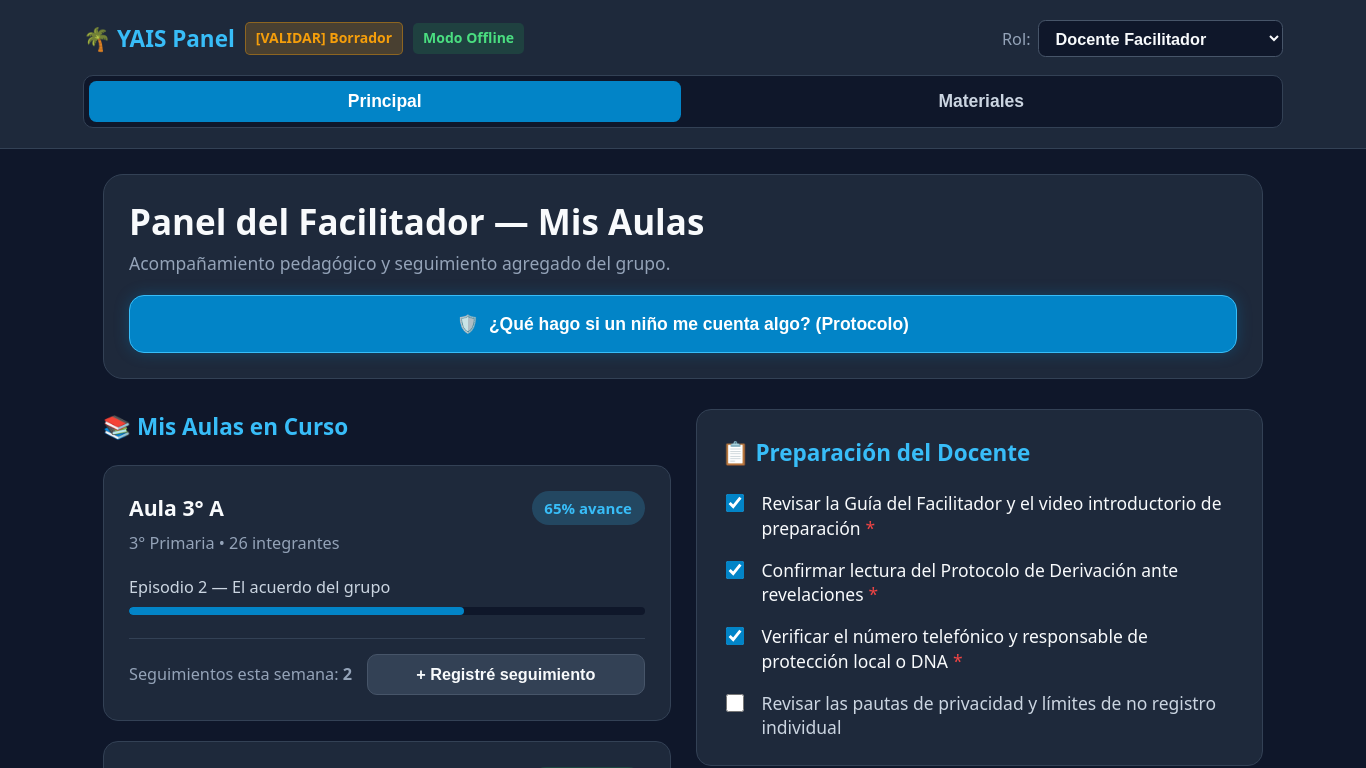
Test case: PanelShell — Panel del Facilitador (SPEC-002) › closes the ProtocolModal when pressing Escape
Click the button with aria-label "Abrir protocolo": (683,324) x1=129 y1=295 x2=1237 y2=353
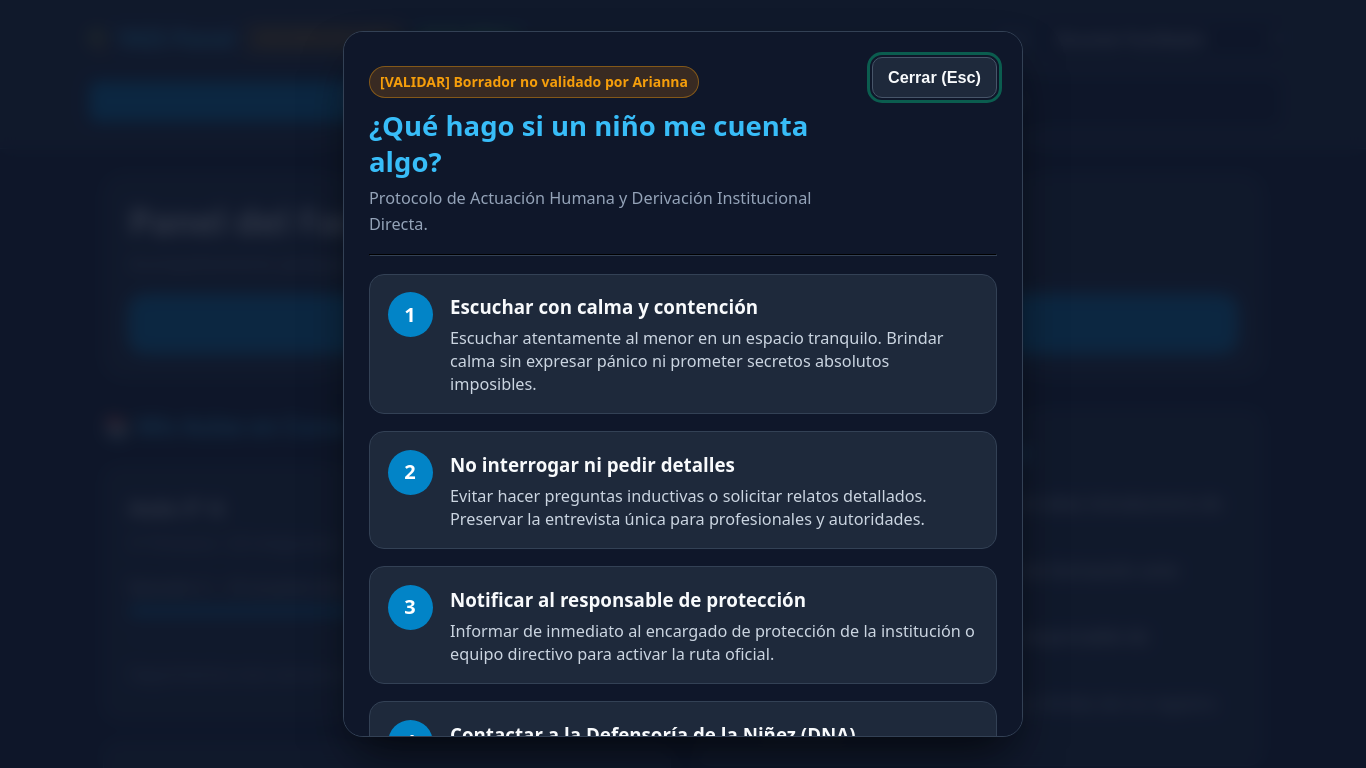
Now the dialog is shown
Press Escape
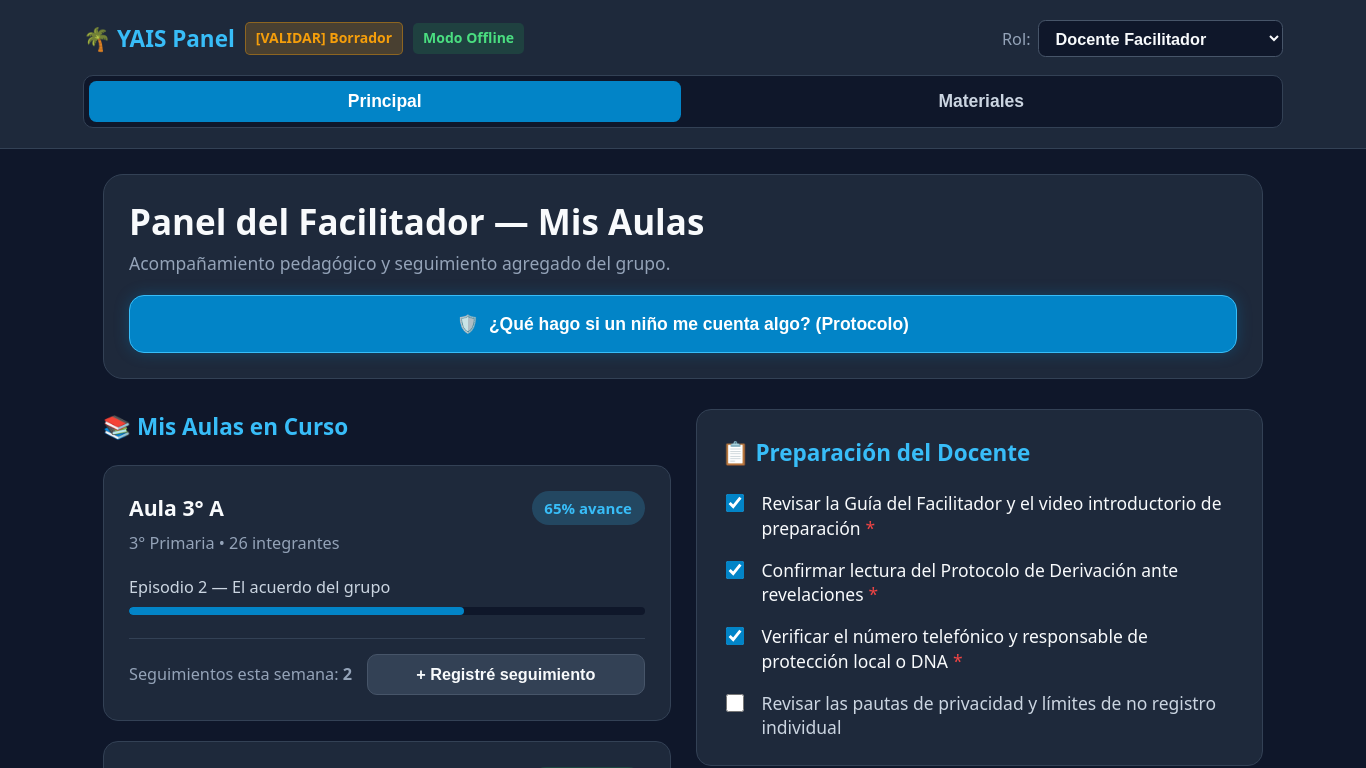
Now the dialog is gone
